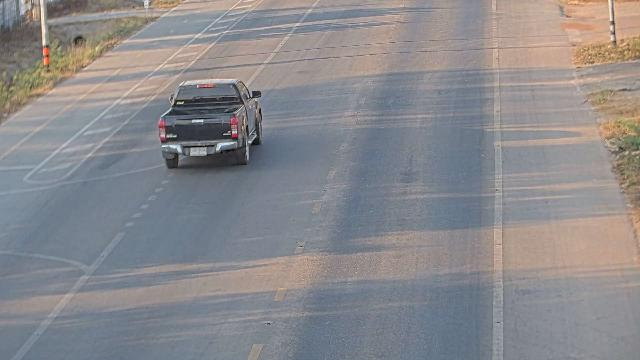pickup-truck: (157, 77, 263, 169)
